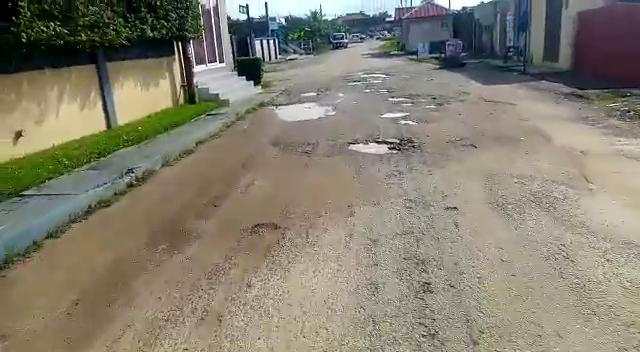pothole: (266, 100, 335, 120), (347, 136, 413, 155), (387, 96, 423, 104), (380, 112, 411, 119), (396, 118, 418, 125)
